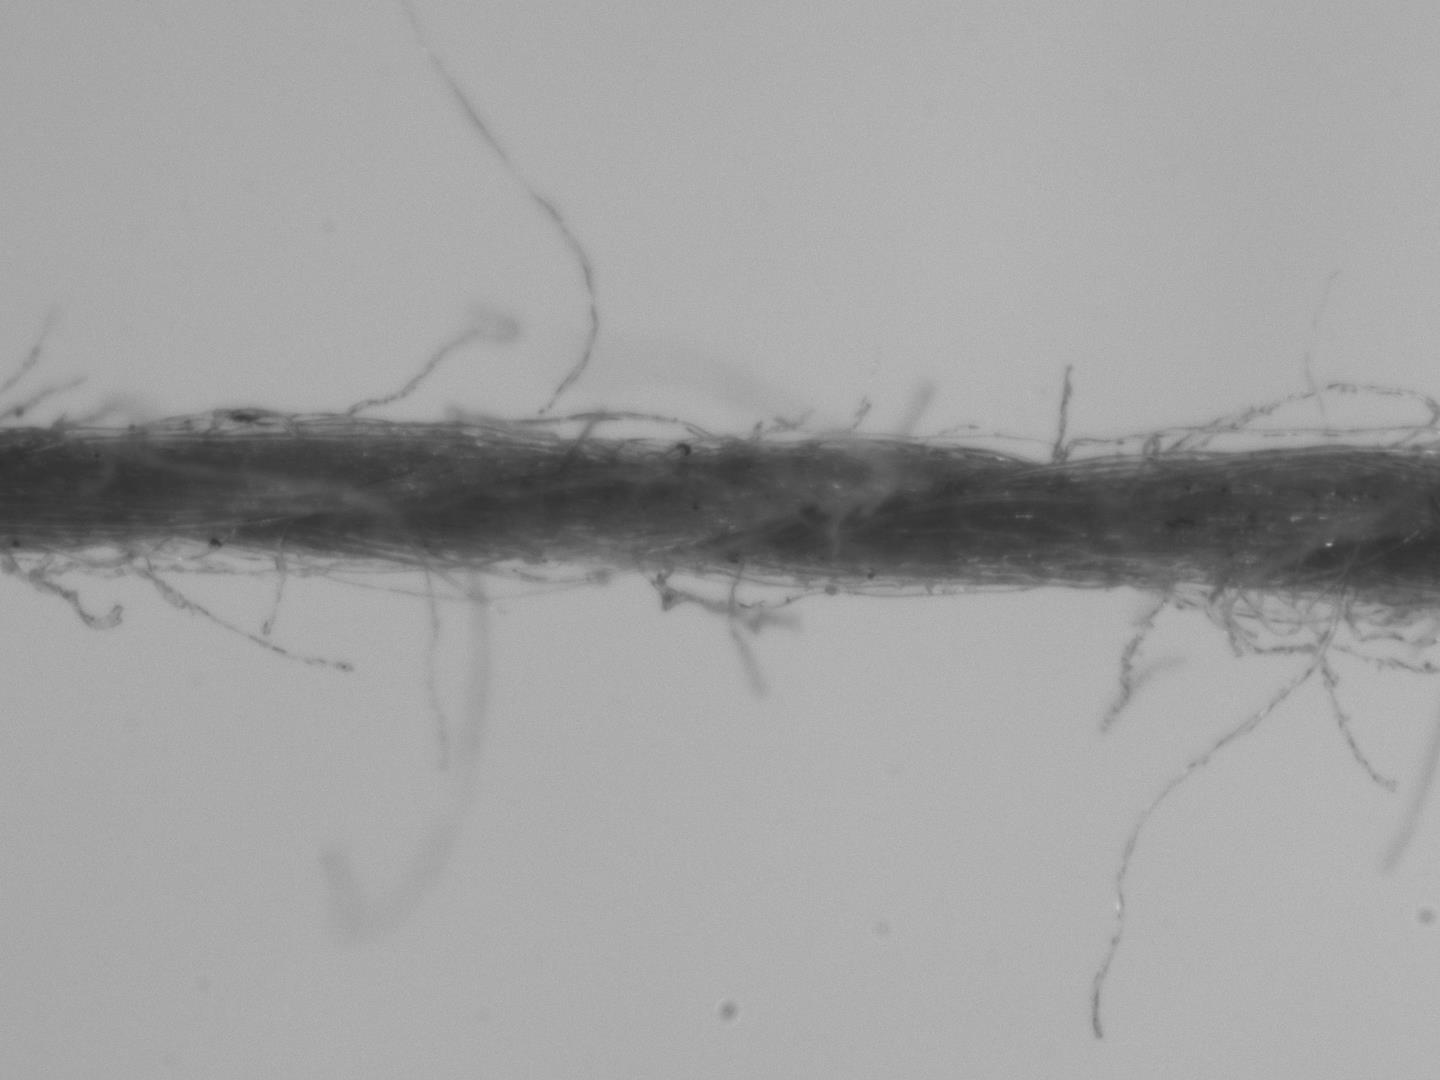loop_fiber: (1150, 379, 1437, 457), (565, 404, 746, 455)
protruding_fiber: (1079, 596, 1353, 1048), (389, 5, 609, 423), (110, 552, 358, 678), (317, 309, 516, 421), (417, 560, 450, 784), (721, 571, 765, 700), (1047, 348, 1081, 465)
